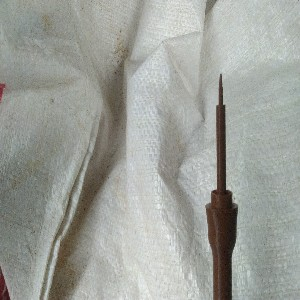solder: (205, 72, 239, 300)
